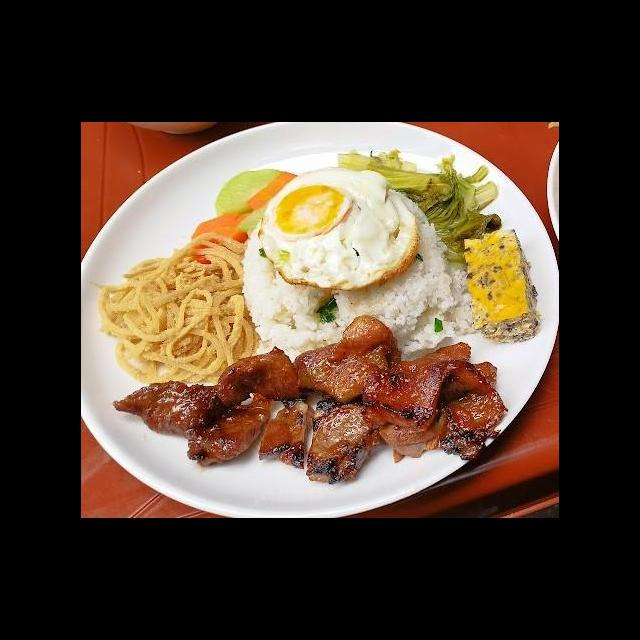bi: (88, 230, 263, 389)
cha: (460, 227, 545, 345)
com: (357, 188, 482, 360), (239, 217, 357, 356)
com suon bi cha trung: (83, 143, 558, 518)
dua chua: (335, 144, 505, 270), (190, 164, 302, 267)
suon: (291, 311, 510, 486), (110, 344, 318, 470)
trung: (256, 164, 422, 293)
